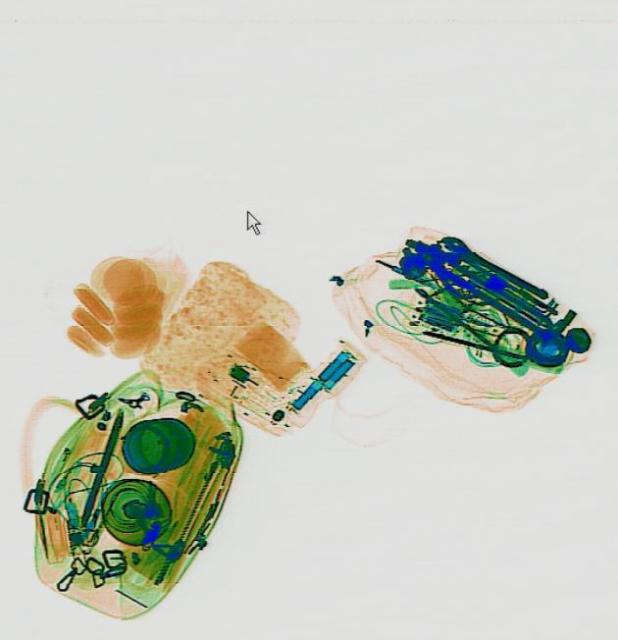Wrench: (435, 229, 550, 301)
